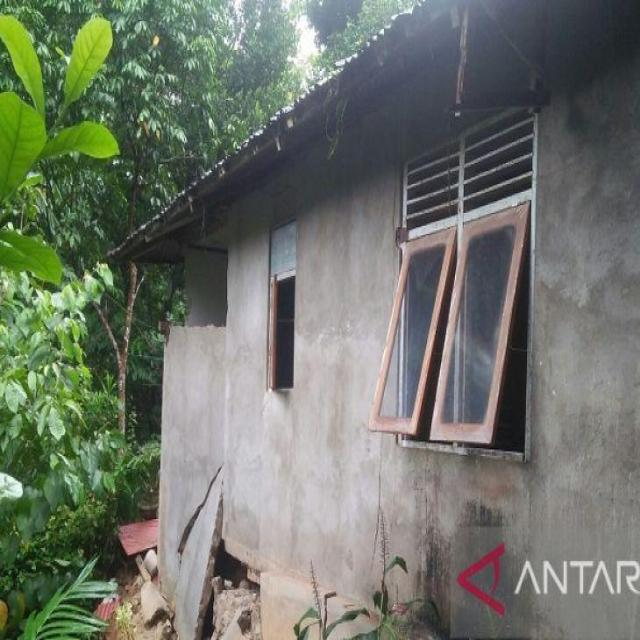damage: (100, 528, 302, 640), (150, 216, 241, 354)
